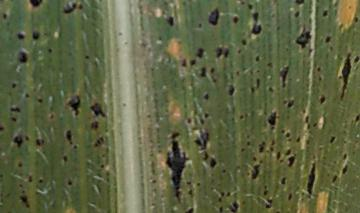tarspot: (161, 138, 184, 204), (337, 49, 352, 102), (293, 24, 314, 51), (65, 93, 84, 119), (306, 162, 318, 199), (193, 130, 212, 151), (206, 6, 223, 28), (278, 63, 291, 91), (89, 100, 107, 120), (249, 12, 263, 37), (60, 1, 77, 19), (17, 191, 32, 211), (265, 109, 281, 127), (91, 133, 106, 149), (16, 48, 29, 65), (227, 198, 241, 213), (32, 136, 49, 148), (225, 83, 238, 98), (11, 132, 23, 148), (257, 138, 268, 155), (15, 29, 27, 44), (207, 156, 219, 171), (250, 163, 261, 179), (197, 64, 207, 81), (164, 14, 177, 27), (59, 151, 71, 165), (44, 44, 56, 58), (286, 154, 298, 168), (64, 129, 74, 145), (27, 1, 43, 11), (168, 129, 184, 139), (63, 176, 75, 189), (317, 93, 329, 106), (263, 197, 275, 210), (284, 190, 295, 204), (303, 112, 311, 131), (214, 44, 223, 60), (223, 46, 232, 62), (8, 103, 21, 114), (25, 172, 36, 185), (195, 45, 206, 58), (327, 133, 338, 146), (179, 56, 189, 70), (183, 203, 197, 213), (341, 162, 350, 177), (274, 148, 283, 163), (255, 74, 262, 93), (30, 30, 41, 42), (81, 52, 93, 63), (8, 116, 21, 126), (279, 174, 289, 187), (252, 52, 262, 65), (319, 8, 330, 19), (285, 98, 296, 109), (22, 90, 32, 102), (323, 33, 333, 45), (207, 65, 219, 75), (329, 172, 339, 184), (199, 150, 209, 162), (237, 144, 247, 156), (88, 121, 101, 130), (351, 14, 360, 27), (352, 112, 360, 126), (230, 15, 240, 26), (244, 2, 255, 12), (239, 36, 249, 47), (292, 9, 302, 20), (282, 130, 293, 140), (219, 166, 229, 177), (214, 195, 225, 205), (315, 73, 325, 84), (194, 20, 204, 31), (188, 57, 200, 66), (351, 53, 360, 65), (150, 176, 159, 188), (201, 92, 211, 102), (314, 63, 324, 73), (97, 162, 107, 172), (216, 203, 226, 213), (236, 112, 246, 122), (8, 80, 17, 91), (15, 159, 24, 170), (202, 111, 211, 122), (264, 60, 275, 69), (339, 150, 348, 161), (47, 111, 56, 122), (265, 86, 277, 94), (225, 188, 232, 201), (35, 95, 44, 105), (184, 116, 194, 125), (284, 147, 294, 156), (185, 189, 196, 197), (298, 189, 306, 200), (23, 133, 30, 145), (295, 131, 301, 145), (311, 121, 320, 130), (233, 68, 242, 77), (261, 186, 269, 196), (184, 179, 194, 187), (211, 76, 219, 86), (2, 11, 9, 22), (36, 177, 44, 186), (1, 123, 7, 134), (1, 168, 6, 181), (195, 181, 202, 188)
